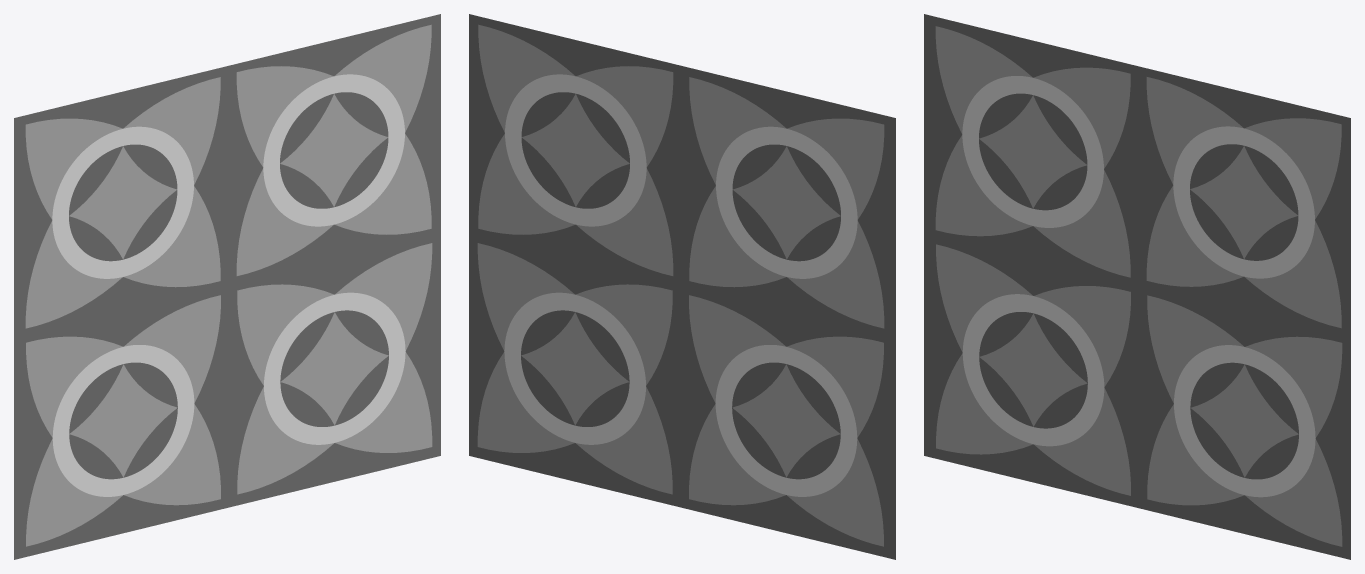
File: bussola.gltf
3 views of the same model, side by side, from view 1: azimuth 30°, elevation 25°; view 2: azimuth 150°, elevation 25°; view 3: azimuth 330°, elevation 25° (orthographic).
Parts seen in each view (by area): view 1: bussola; view 2: bussola; view 3: bussola.
Part boxes in pixels (box(x1,y1,x2,y2)): bussola: box(14, 14, 440, 559); bussola: box(469, 14, 895, 559); bussola: box(924, 14, 1350, 559).
Size of the model in its own units: 611 by 604 by 0.
Materials: 41 (41 with a texture image).
